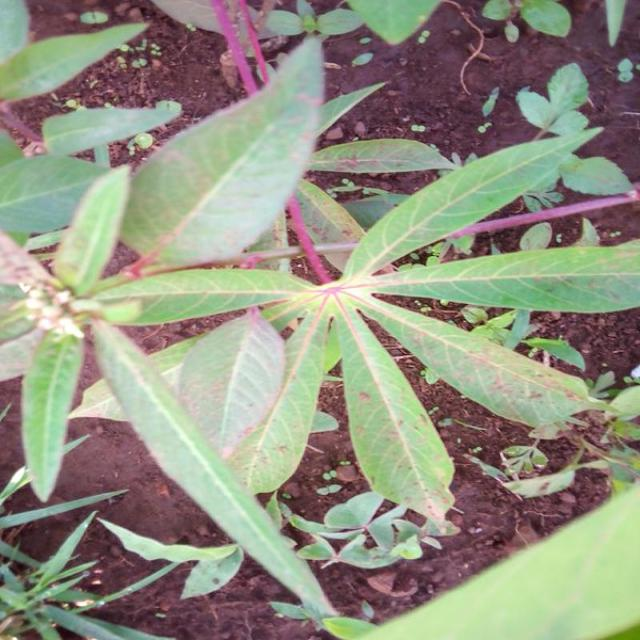cassava leaf: (2, 29, 640, 631), (119, 35, 328, 270)
